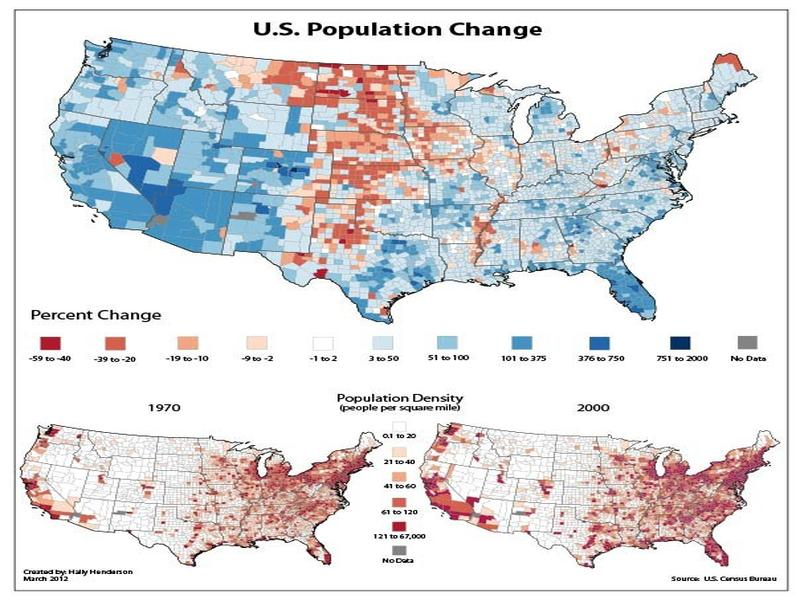legend: (26, 306, 771, 367), (337, 390, 464, 573)
